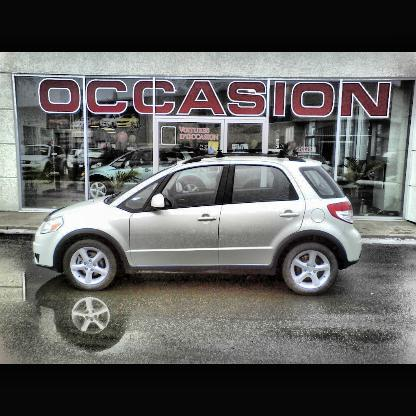Suzuki SX4 Hatchback 2012: (32, 153, 364, 298)
